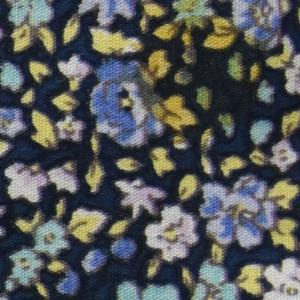Oil Stain: (137, 12, 294, 149)
